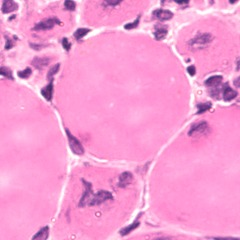New: (174, 16, 238, 81), (22, 1, 77, 41), (78, 1, 150, 31)
